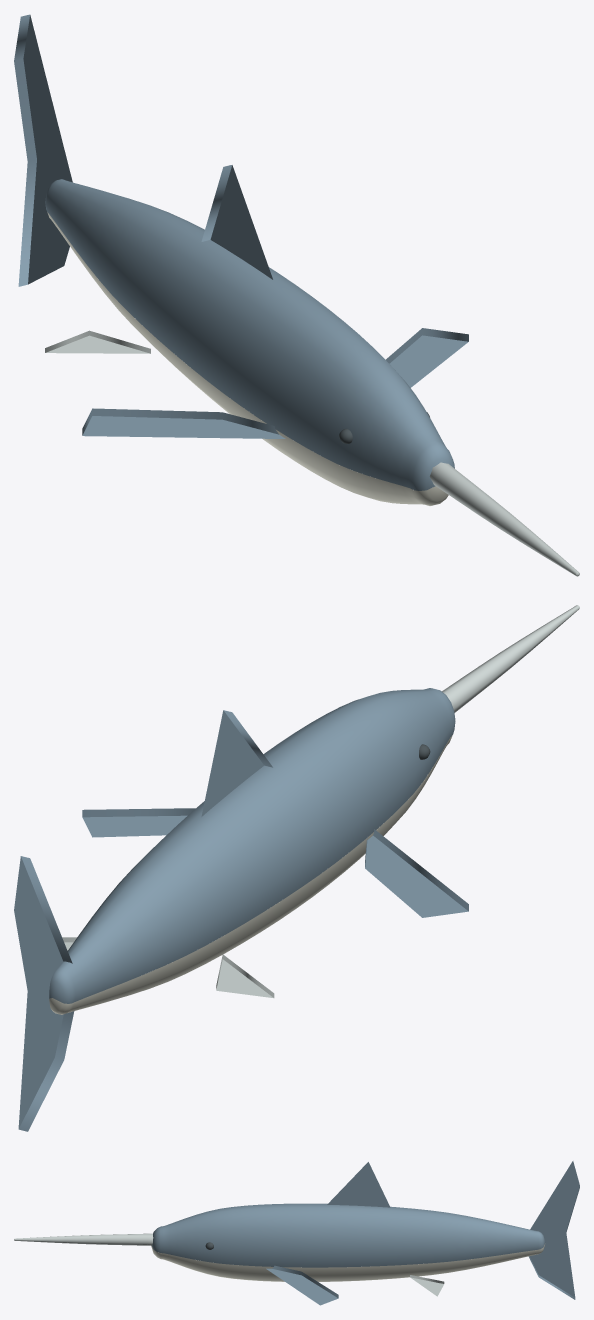
The model's file is ocean_swordfish.glb.
3 renders of one model, top to bottom at view 1: azimuth 30°, elevation 25°; view 2: azimuth 150°, elevation 25°; view 3: azimuth 270°, elevation 25°, orthographic. The views are drawn at different scales.
Visible parts, largest first — view 1: swordfish; view 2: swordfish; view 3: swordfish.
Boxes of the visible parts, x1,y1,x2,y2 form: swordfish: (14,14,579,576); swordfish: (14,605,579,1131); swordfish: (14,1161,579,1305).
Bounding box in the file's own units: 1.24 × 0.831 × 3.1.
